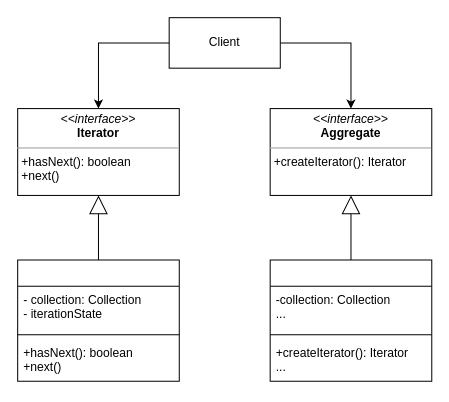
Some shapes in this 449 by 402 pixel diagram are drawn without their labels. Here are the shapes that lost their labels. From the top down, the box of each, then its label:
(17, 259, 179, 381): ConcreteIterator
(269, 259, 432, 381): ConcreteAggregate
